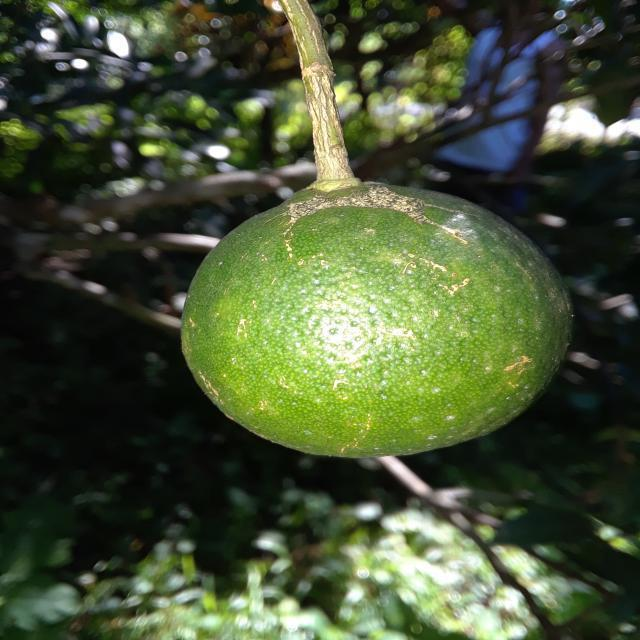thrips: (179, 178, 573, 459)
